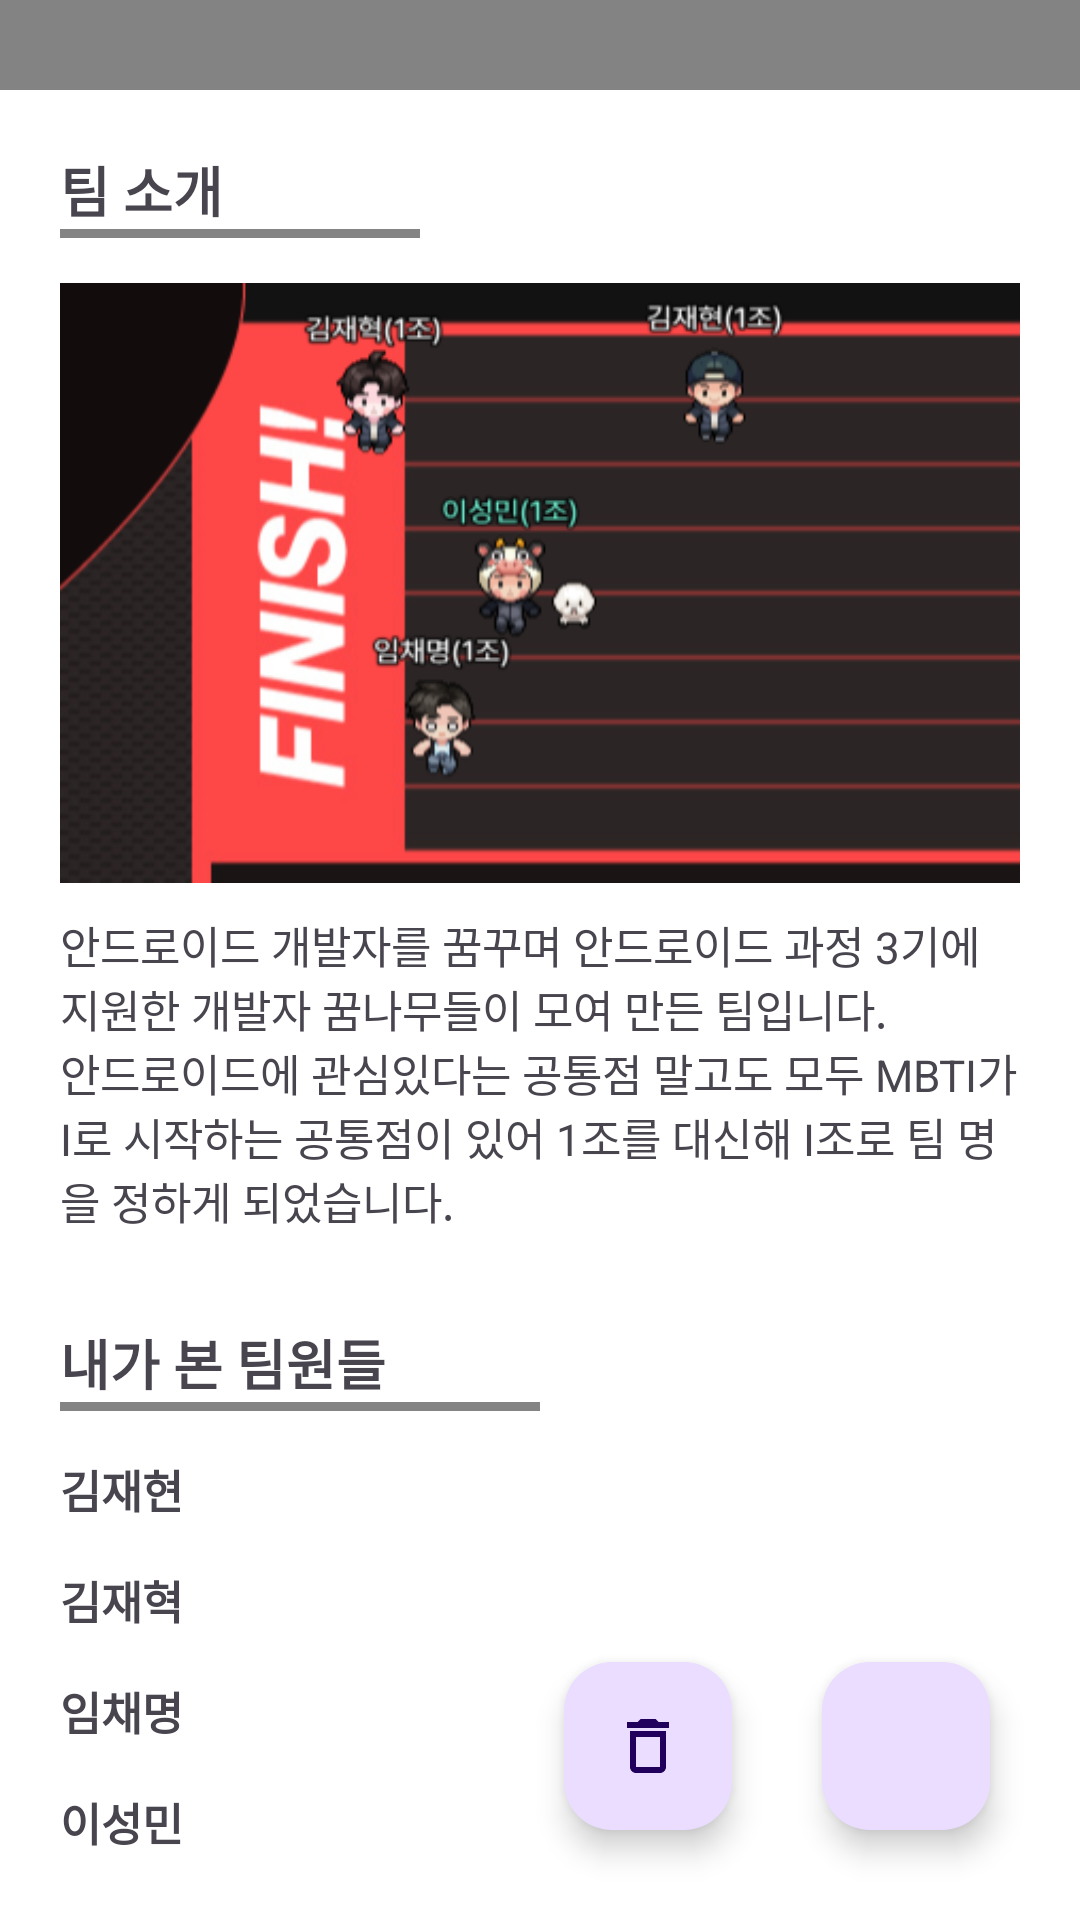

Icon bounding boxes for this 1080×1920 phone screenshot, format bbox=(x1, y1, x2, y2):
delete: bbox=(564, 1662, 732, 1830)
